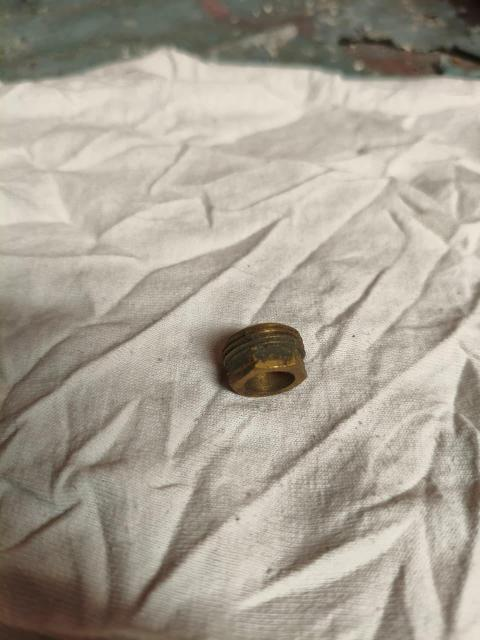Metal: (213, 325, 320, 393)
